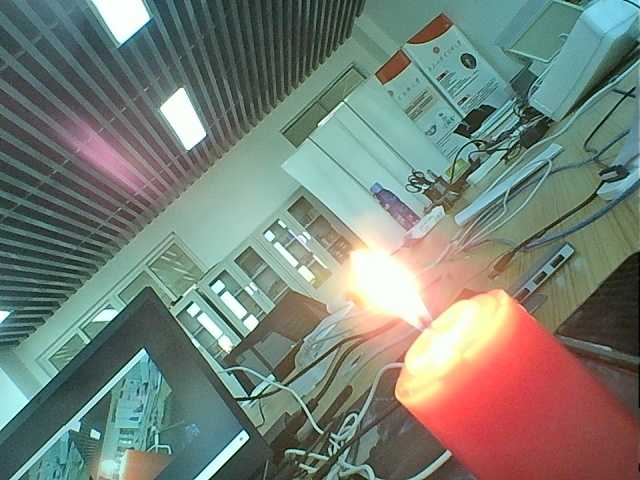candle: (395, 294, 640, 480)
fire: (329, 240, 462, 352)
